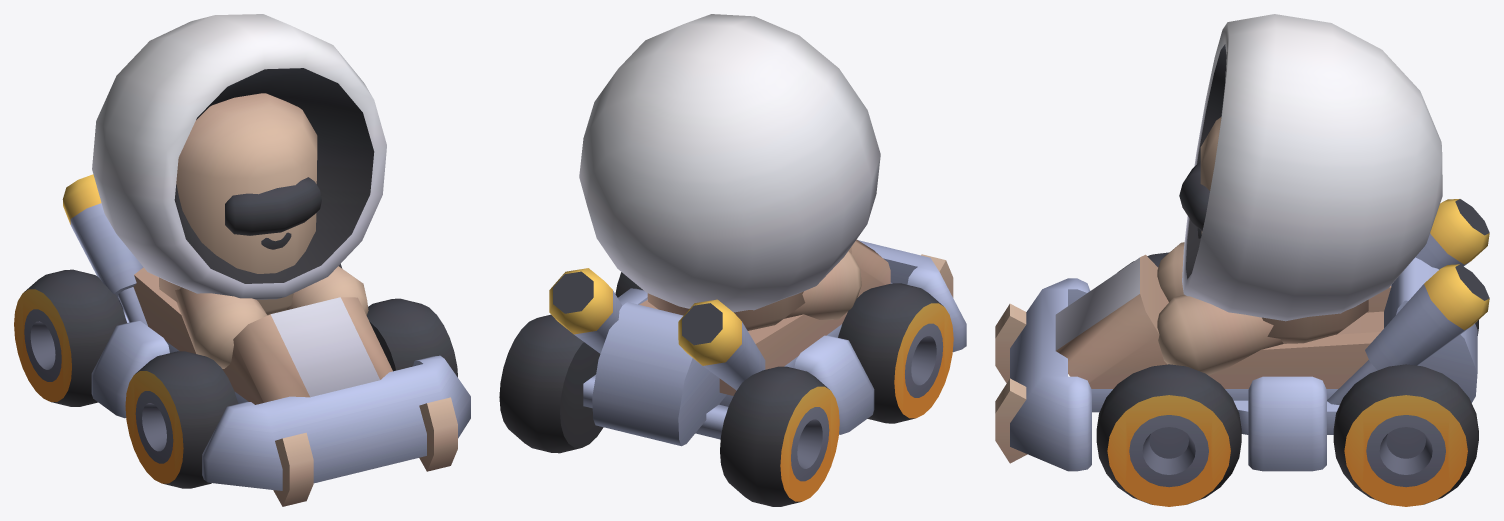
File: kart-oozi.glb
The picture shows the model from 3 angles, left to right: view 1: azimuth 30°, elevation 25°; view 2: azimuth 150°, elevation 25°; view 3: azimuth 270°, elevation 25°; orthographic projection. The views are drawn at different scales.
Visible parts, largest first — view 1: kart-oozi; view 2: kart-oozi; view 3: kart-oozi.
Part boxes in pixels (box(x1,y1,x2,y2)): kart-oozi: box(14, 14, 470, 506); kart-oozi: box(499, 14, 966, 506); kart-oozi: box(995, 14, 1489, 506).
Bounding box in the file's own units: 0.9743 × 1.33 × 1.43.
Materials: 1 (1 with a texture image).
